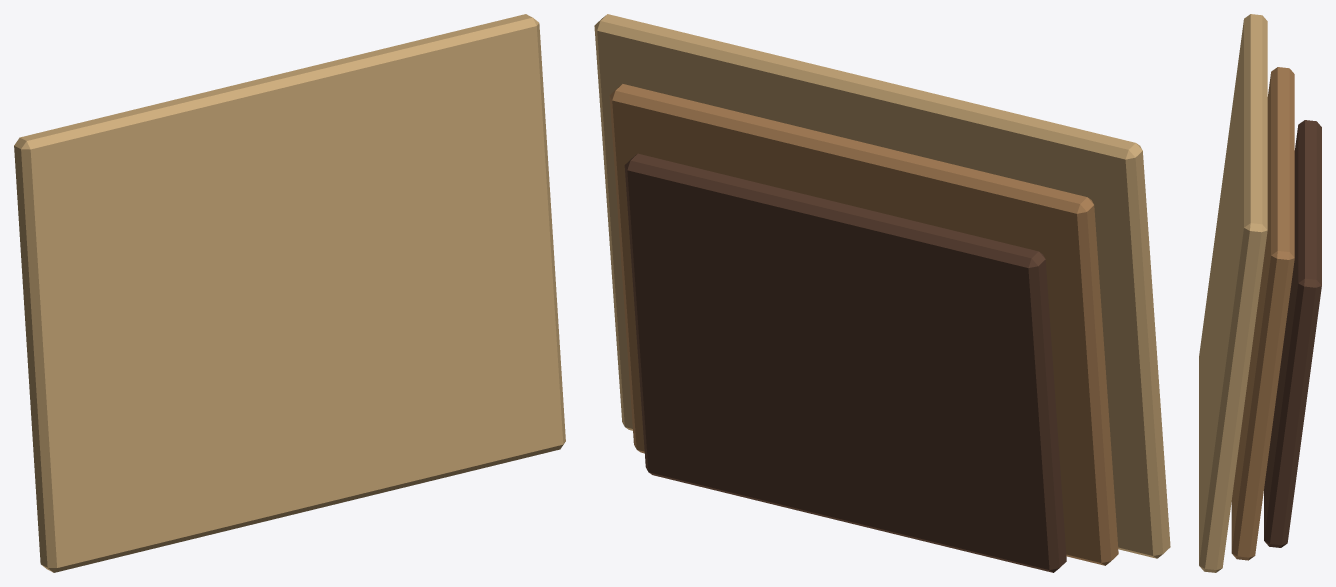
File: i_board_2.glb
3 renders of one model, left to right at view 1: azimuth 30°, elevation 25°; view 2: azimuth 150°, elevation 25°; view 3: azimuth 270°, elevation 25°, orthographic. The views are drawn at different scales.
Parts seen in each view (by area): view 1: o; view 2: o.002, o, o.001; view 3: o, o.001, o.002.
Boxes of the visible parts, bbox=[...] form: o: bbox=[14, 14, 565, 572]; o.002: bbox=[624, 153, 1066, 572]; o: bbox=[594, 14, 1170, 558]; o.001: bbox=[609, 84, 1118, 565]; o: bbox=[1199, 14, 1267, 572]; o.001: bbox=[1231, 67, 1294, 560]; o.002: bbox=[1264, 120, 1321, 547].
Size of the model in its own units: 0.34 by 0.2593 by 0.0825.
